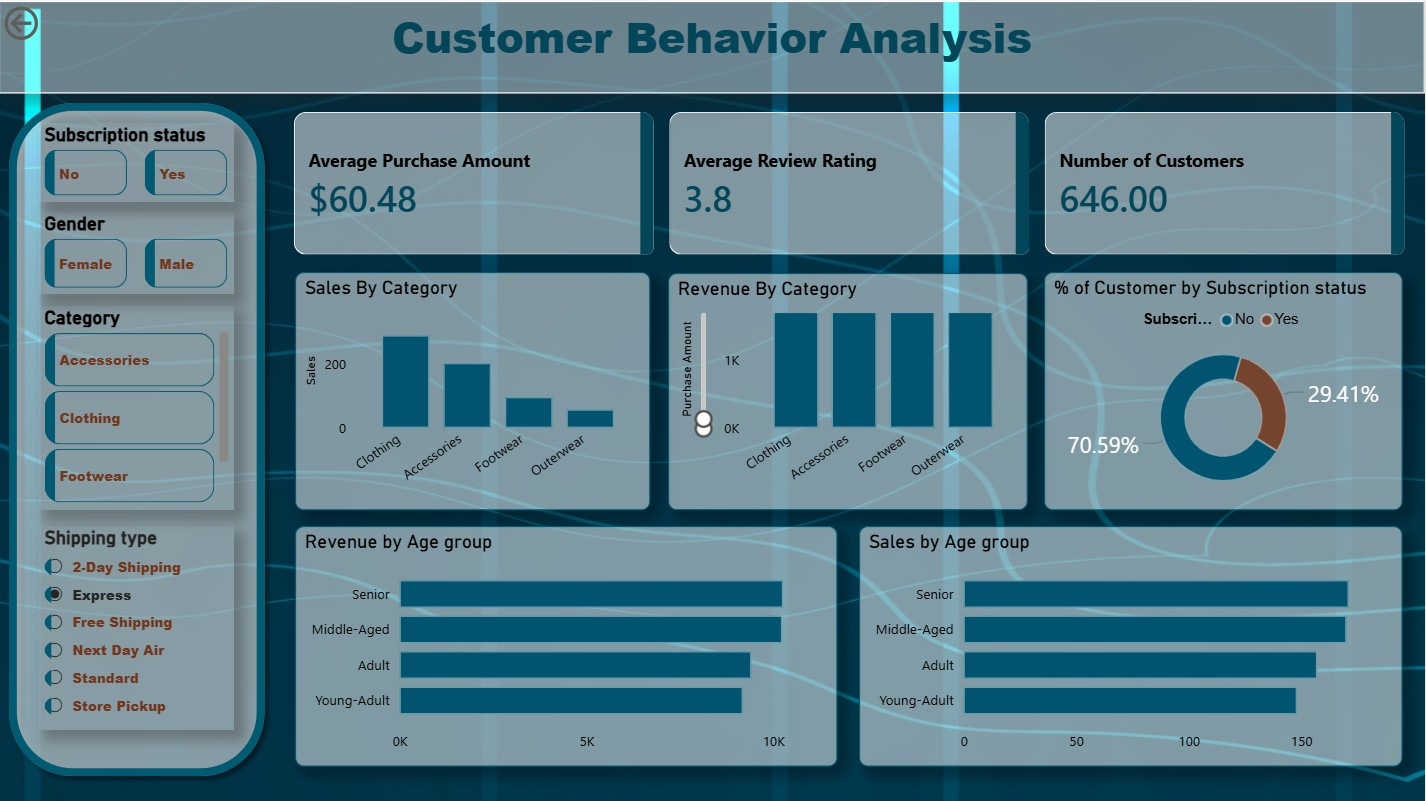

The dashboard page shown, as its layout file describes it:
{"tool":"powerbi","page":{"name":"Page 1","canvas":[1280,720],"ordinal":0},"visuals":[{"type":"cardVisual","fields":{"Data":["public customer.Average Purchase Amount","public customer.Average Review Rating","public customer.Number of Customers"]},"box":[247.4,82.5,1032.6,162],"z":0},{"type":"textbox","box":[0,0,1280,82.7],"z":1000},{"type":"donutChart","title":"% of Customer by Subscription status","fields":{"Category":["public customer.subscription_status"],"Y":["CountNonNull(public customer.customer_id)"]},"box":[937.7,243.5,322.2,213.8],"z":2000},{"type":"clusteredColumnChart","title":"Revenue By Category","fields":{"Category":["public customer.category"],"Y":["Sum(public customer.purchase_amount)"]},"box":[600.2,244.5,323.1,212.8],"z":3000},{"type":"clusteredColumnChart","title":"Sales By Category","fields":{"Category":["public customer.category"],"Y":["CountNonNull(public customer.customer_id)"]},"box":[265.6,243.5,319.3,213.8],"z":4000},{"type":"shape","box":[0,82.5,247.4,622.3],"z":5000},{"type":"advancedSlicerVisual","title":"Subscription status","fields":{"Values":["public customer.subscription_status"]},"box":[35.5,109.3,175.5,71],"z":6000},{"type":"advancedSlicerVisual","title":"Category","fields":{"Values":["public customer.category"]},"box":[35.5,274.2,175.5,183.1],"z":7000},{"type":"advancedSlicerVisual","title":"Gender","fields":{"Values":["public customer.gender"]},"box":[35.5,189.8,175.5,73.8],"z":8000},{"type":"actionButton","box":[0,0,100,40],"z":8002},{"type":"listSlicer","title":"Shipping type","fields":{"Values":["public customer.shipping_type"]},"box":[35.5,471.7,175.5,183.1],"z":8003},{"type":"clusteredBarChart","title":"Revenue by Age group","fields":{"Category":["public customer.age_group"],"Y":["Sum(public customer.purchase_amount)"]},"box":[265.6,471.7,487.1,215.7],"z":8004},{"type":"clusteredBarChart","title":"Sales by Age group","fields":{"Category":["public customer.age_group"],"Y":["CountNonNull(public customer.customer_id)"]},"box":[771.8,471.7,488,215.7],"z":8005}]}

Visuals, with their boxes in screenshot pixels (x1, y1, x2, y2), scaled from the page's 1280x720 canvas onto the 1426x801 screenshot:
cardVisual - public customer.Average Purchase Amount x public customer.Average Review Rating: select_region(276, 92, 1425, 272)
textbox: select_region(0, 0, 1425, 92)
"% of Customer by Subscription status" donutChart: select_region(1045, 271, 1404, 509)
"Revenue By Category" clusteredColumnChart: select_region(669, 272, 1029, 509)
"Sales By Category" clusteredColumnChart: select_region(296, 271, 652, 509)
shape: select_region(0, 92, 276, 784)
"Subscription status" advancedSlicerVisual: select_region(40, 122, 235, 201)
"Category" advancedSlicerVisual: select_region(40, 305, 235, 509)
"Gender" advancedSlicerVisual: select_region(40, 211, 235, 293)
actionButton: select_region(0, 0, 111, 44)
"Shipping type" listSlicer: select_region(40, 525, 235, 728)
"Revenue by Age group" clusteredBarChart: select_region(296, 525, 839, 765)
"Sales by Age group" clusteredBarChart: select_region(860, 525, 1403, 765)
